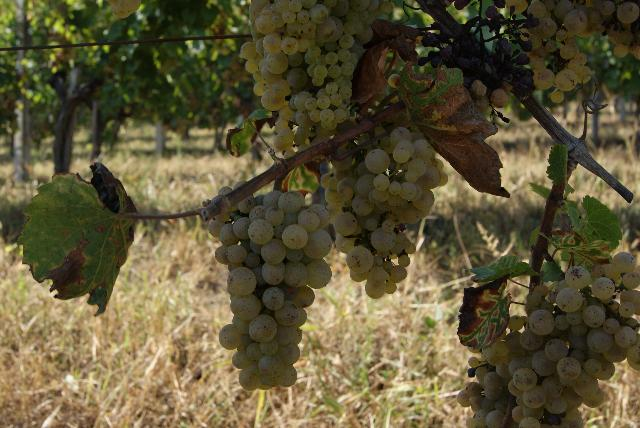grapes: (458, 252, 640, 426), (208, 190, 332, 391), (321, 129, 448, 299), (241, 0, 392, 136)
